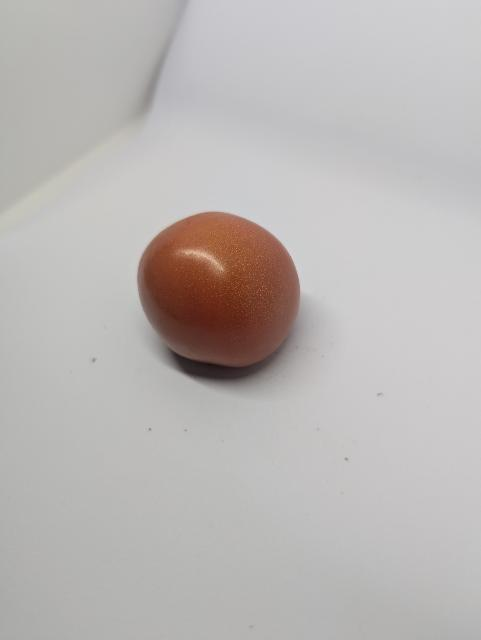red: (133, 211, 318, 390)
